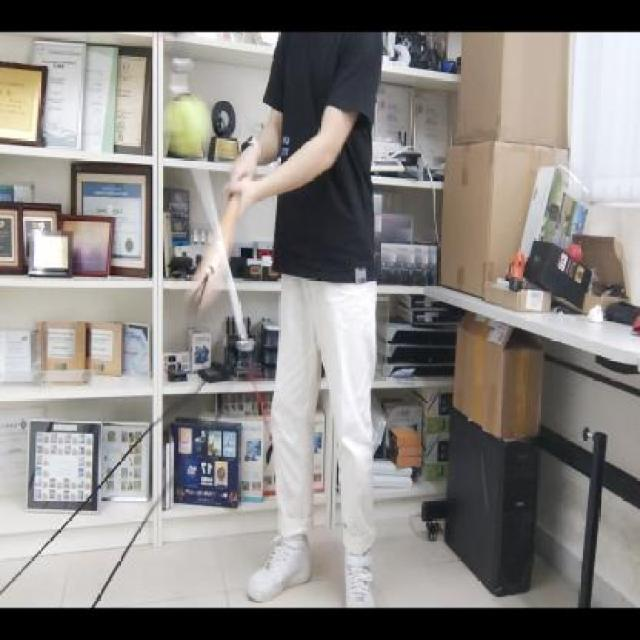baseball: (164, 95, 210, 152)
